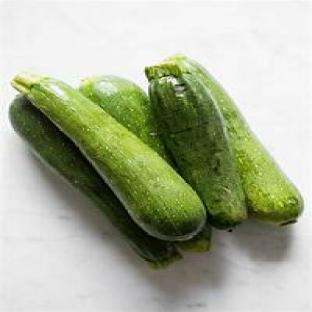Zucchini: (13, 73, 205, 240), (10, 96, 180, 268), (169, 56, 302, 225), (146, 62, 246, 228), (79, 75, 171, 162), (178, 224, 212, 251)
